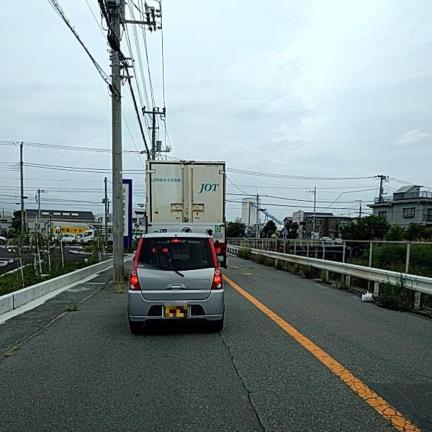Road: (0, 258, 431, 431)
